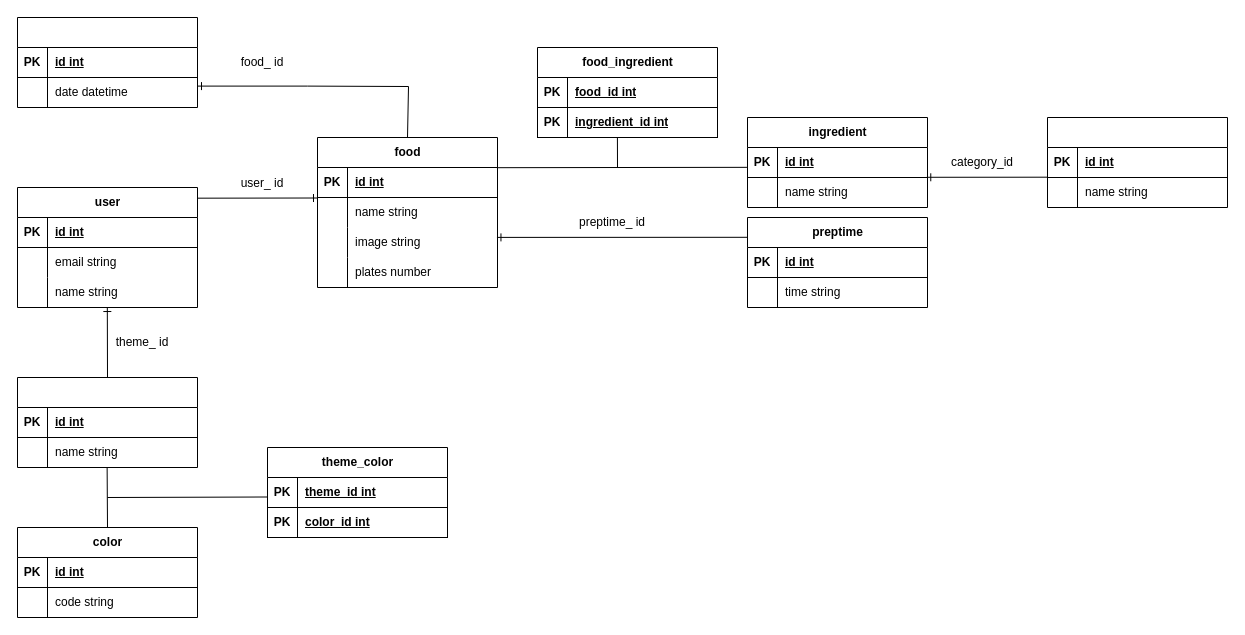
This 1245x635 diagram has some shape labels left out. Here are the shapes that lost their labels. From the top down, the box of each, then its label:
(16, 16, 198, 108): Calendar
(1046, 116, 1228, 208): category
(16, 376, 198, 468): theme
